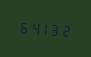four: (29, 18, 39, 36)
one: (40, 19, 50, 37)
six: (18, 18, 28, 35)
three: (51, 20, 61, 38)
two: (62, 21, 72, 38)
